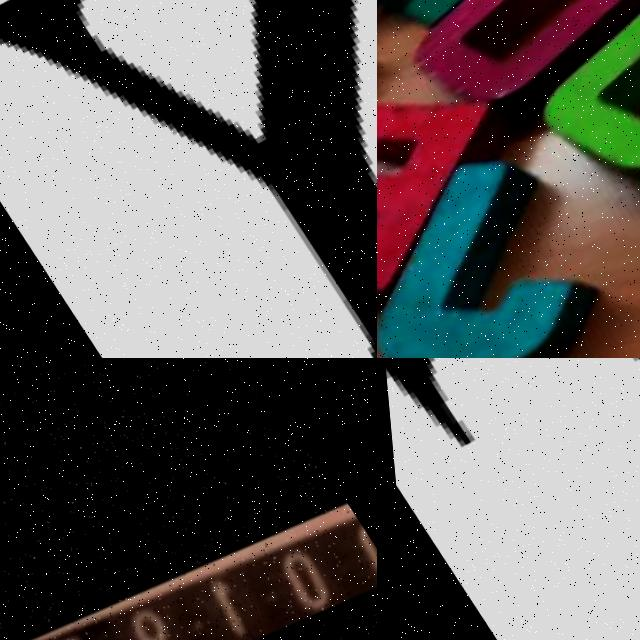0: (260, 521, 340, 607), (339, 504, 377, 573)
1: (186, 553, 261, 638)
5: (31, 614, 111, 640)
9: (108, 583, 189, 640)
E: (377, 0, 587, 358)
J: (377, 101, 640, 358)
K: (377, 0, 640, 72)
T: (377, 358, 640, 640)
U: (377, 0, 640, 162)
Y: (0, 0, 377, 358)
